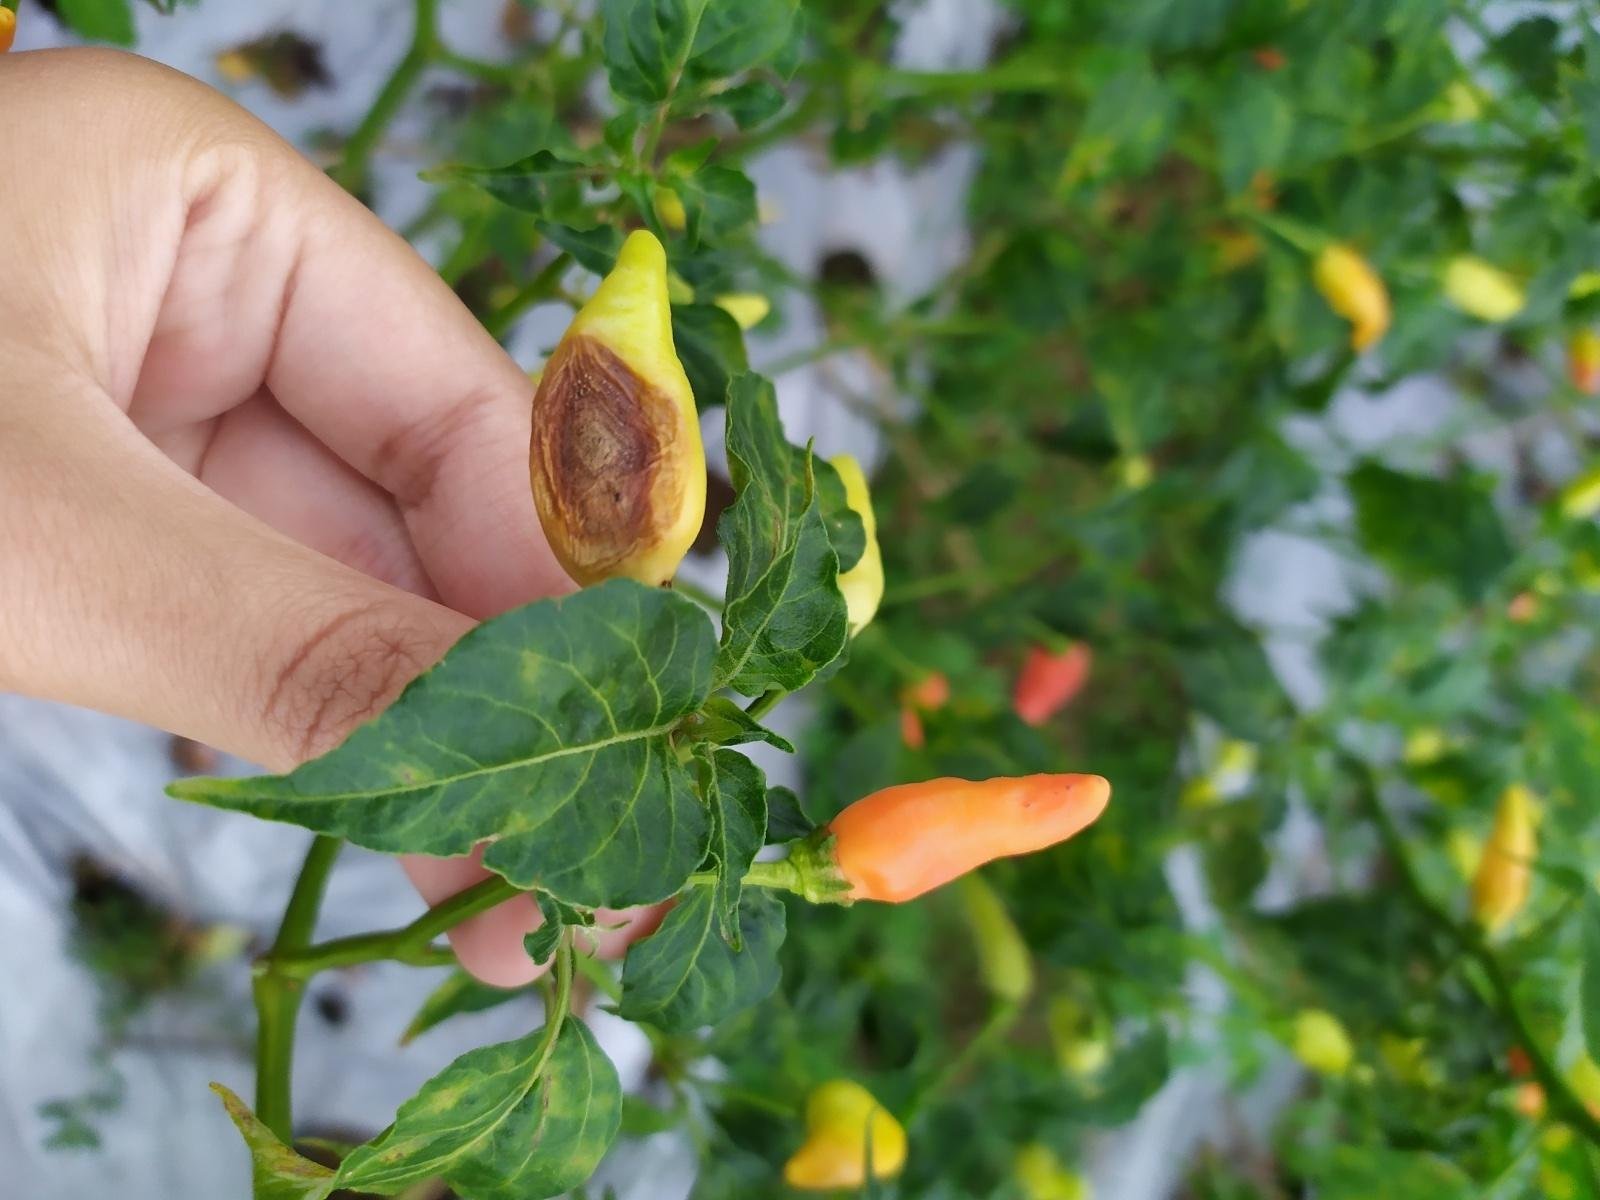antraknosa: (527, 227, 707, 590)
cabai_normal: (826, 773, 1111, 903)
